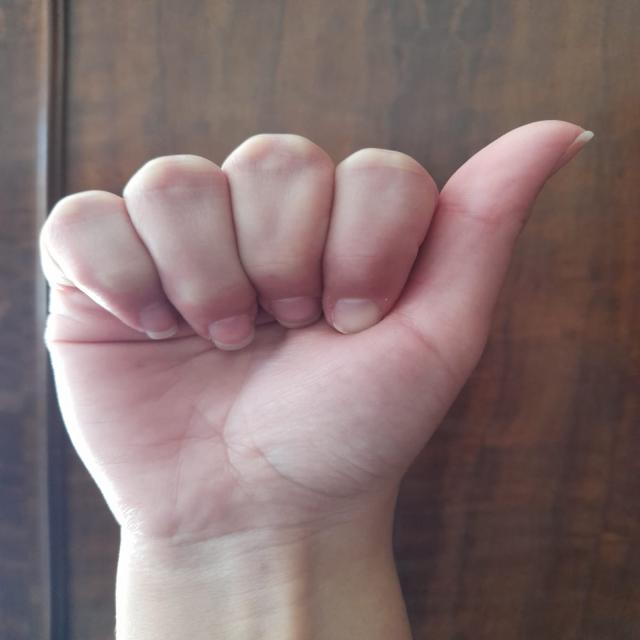A: (2, 94, 640, 572)
